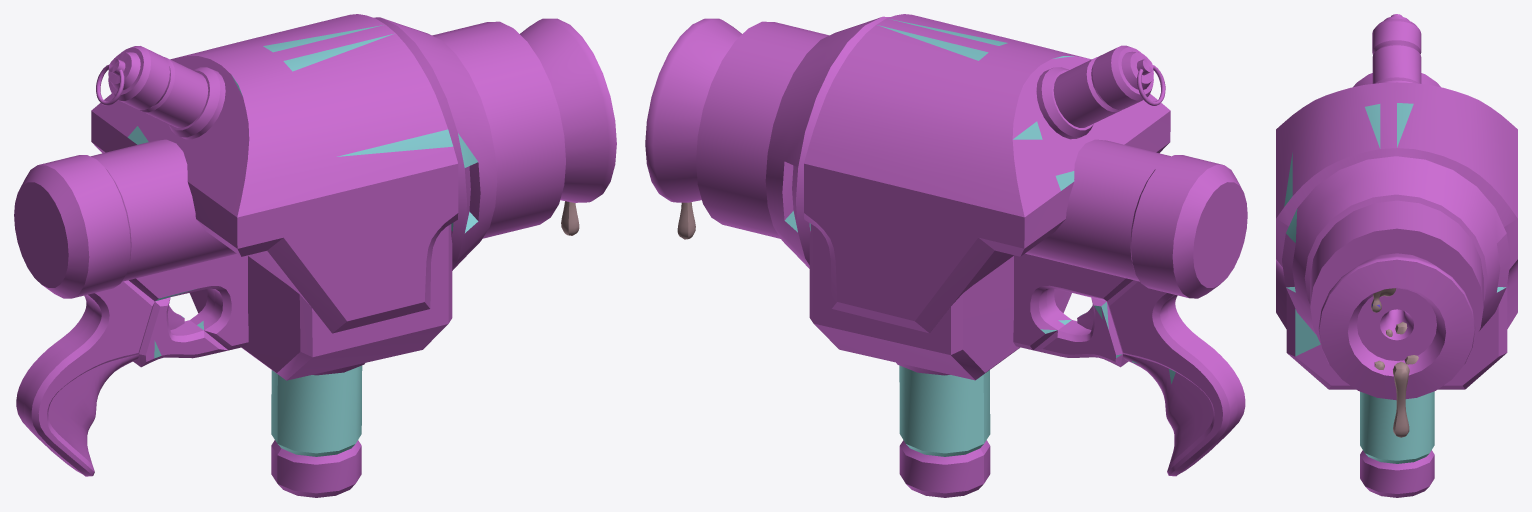
Rendered from RipScript.fbx.
3 renders of one model, left to right at view 1: azimuth 30°, elevation 25°; view 2: azimuth 150°, elevation 25°; view 3: azimuth 270°, elevation 25°, orthographic. The views are drawn at different scales.
Visible parts, largest first — view 1: 000-0-0, 001-0-1; view 2: 000-0-0, 001-0-1; view 3: 000-0-0, 001-0-1, 002-0-2.
Part boxes in pixels (left/top/right/bottom): 000-0-0: left=14, top=14, right=616, bottom=497; 001-0-1: left=271, top=365, right=362, bottom=456; 000-0-0: left=645, top=14, right=1247, bottom=497; 001-0-1: left=899, top=365, right=990, bottom=456; 000-0-0: left=1276, top=14, right=1517, bottom=497; 001-0-1: left=1360, top=391, right=1434, bottom=463; 002-0-2: left=1371, top=288, right=1418, bottom=437.
Bounding box in the file's own units: 26.69 × 21.67 × 12.05.
